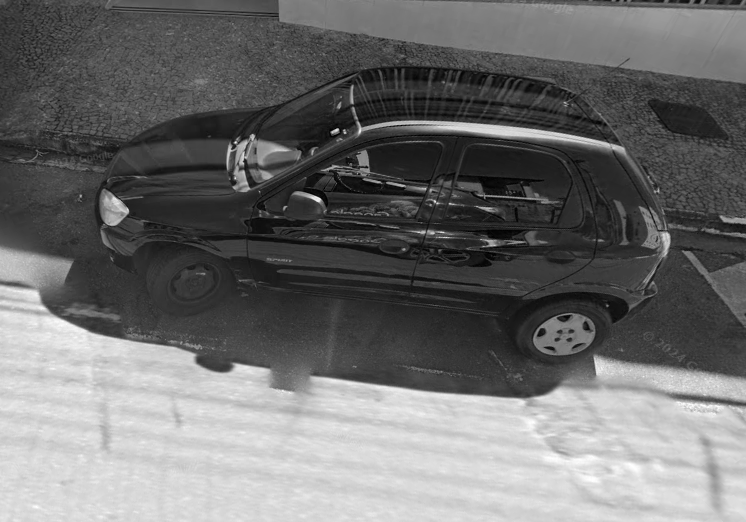car: (92, 54, 672, 367)
